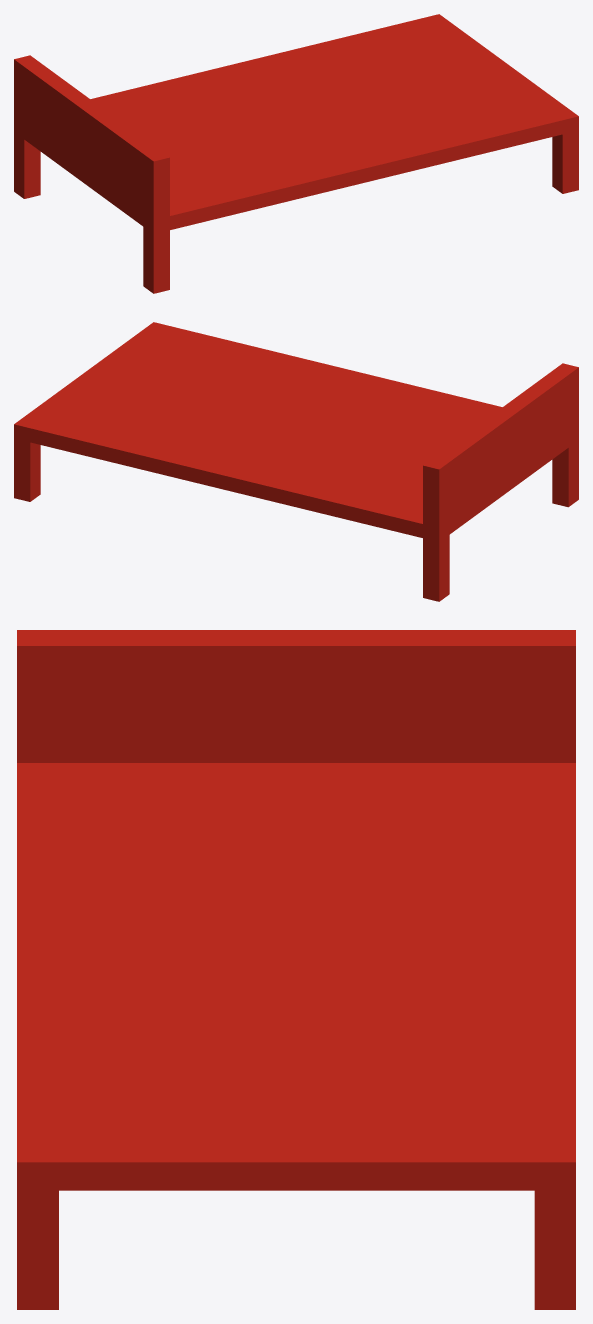
File: Bed_Room.obj
The picture shows the model from 3 angles, top to bottom: view 1: azimuth 30°, elevation 25°; view 2: azimuth 150°, elevation 25°; view 3: azimuth 270°, elevation 25°; orthographic projection. The views are drawn at different scales.
Visible parts, largest first — view 1: Plane.001; view 2: Plane.001; view 3: Plane.001.
Part boxes in pixels (x1,y1,x2,y2): Plane.001: (14, 14, 578, 293); Plane.001: (14, 322, 578, 601); Plane.001: (17, 630, 575, 1309).
Size of the model in its own units: 5.33 by 1.59 by 3.03.
